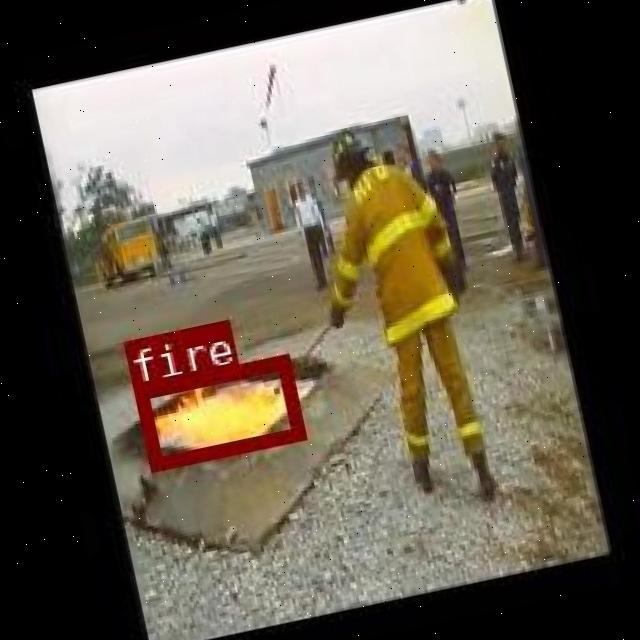fire: (132, 353, 304, 470)
